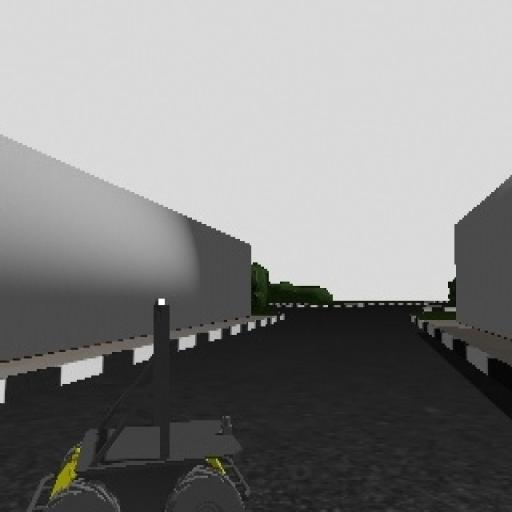huskya200: (23, 280, 295, 512)
